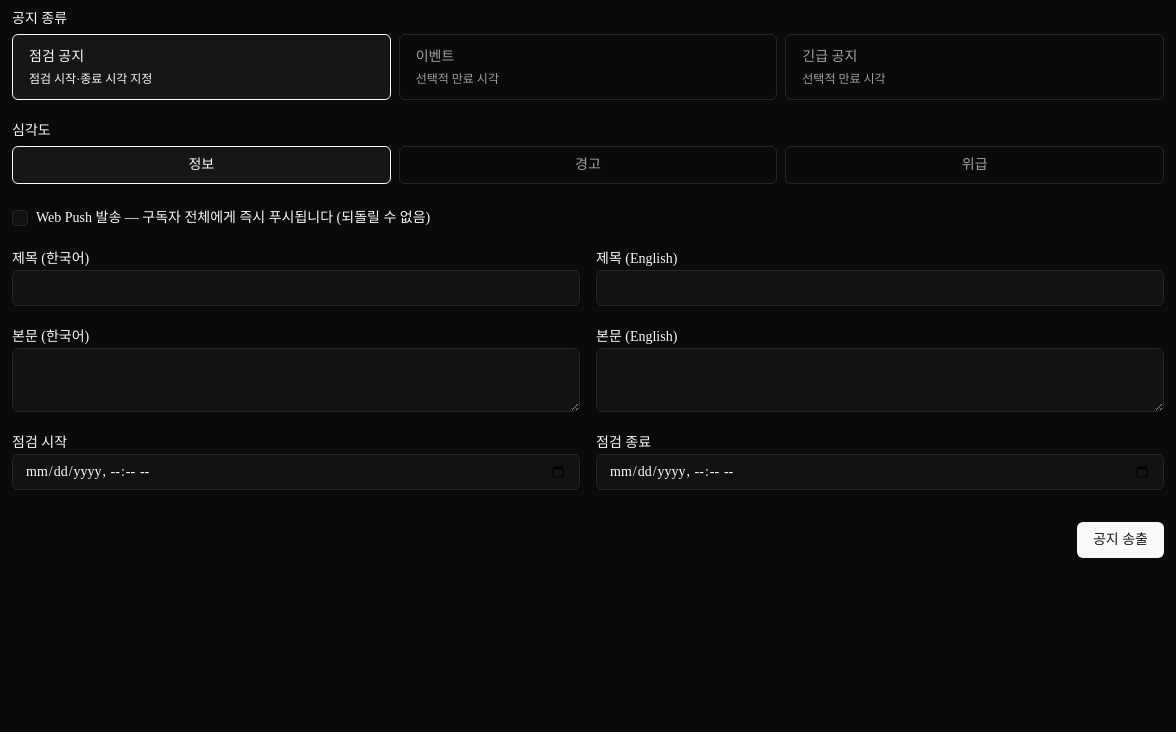
Scenario: AnnouncementLaunchForm › type 전환 (점검 → 이벤트) — schedule 필드 사라지고 expiresAt 노출
This screenshot has width=1176, height=732.
Step 1. Click the radio button labelled "이벤트 선택적 만료 시각" → [435, 56], box [399,34,777,100]
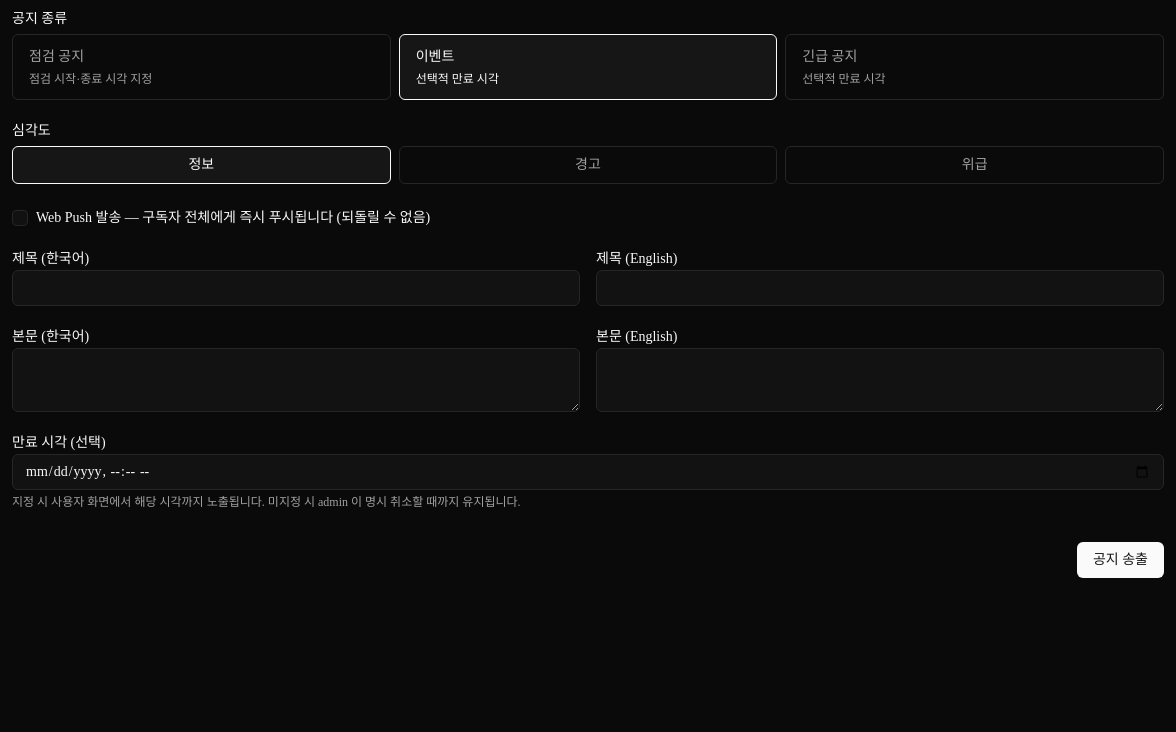
Check: the label labelled "점검 종료" is gone
Check: the field labelled "만료 시각 (선택)" is shown, box [12,454,1164,490]
